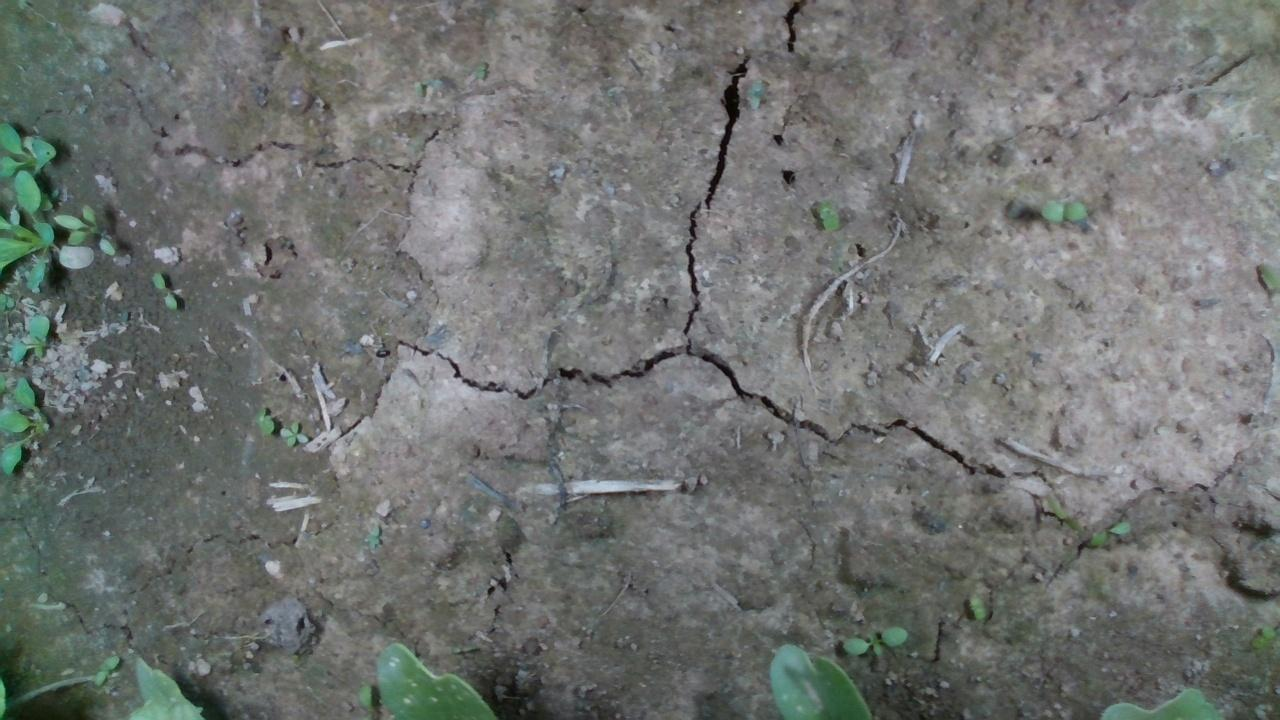weed: (837, 626, 907, 654), (1034, 194, 1089, 227), (147, 272, 179, 310), (278, 418, 315, 449)
